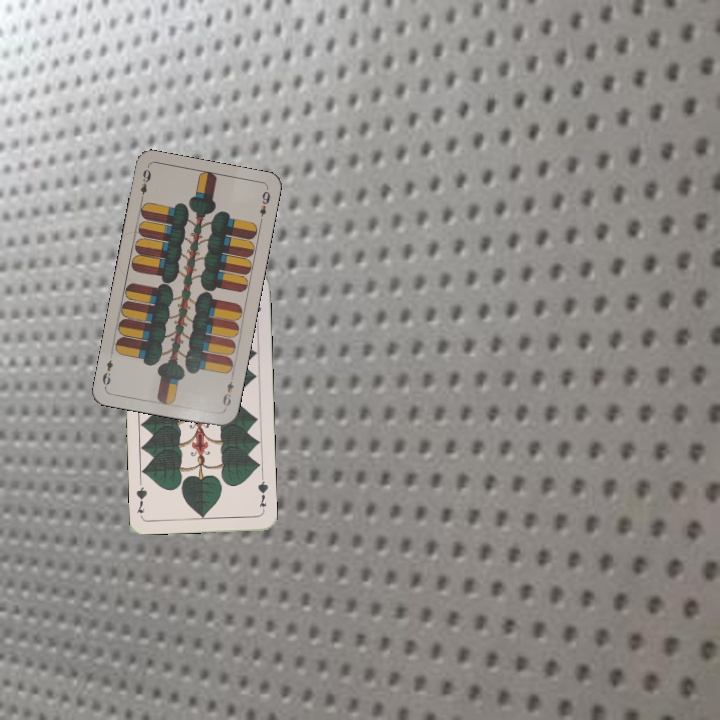E9: (136, 165, 154, 204), (219, 376, 236, 412)
G7: (253, 474, 271, 515)
